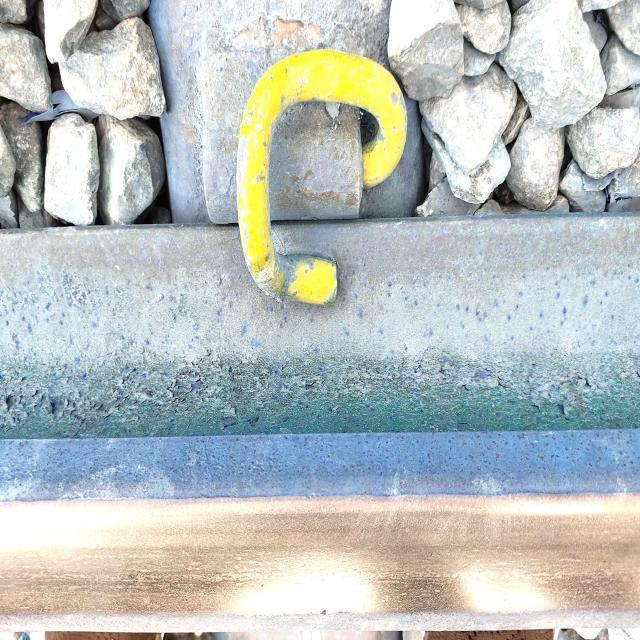Good Fasteners: (149, 0, 422, 304)
